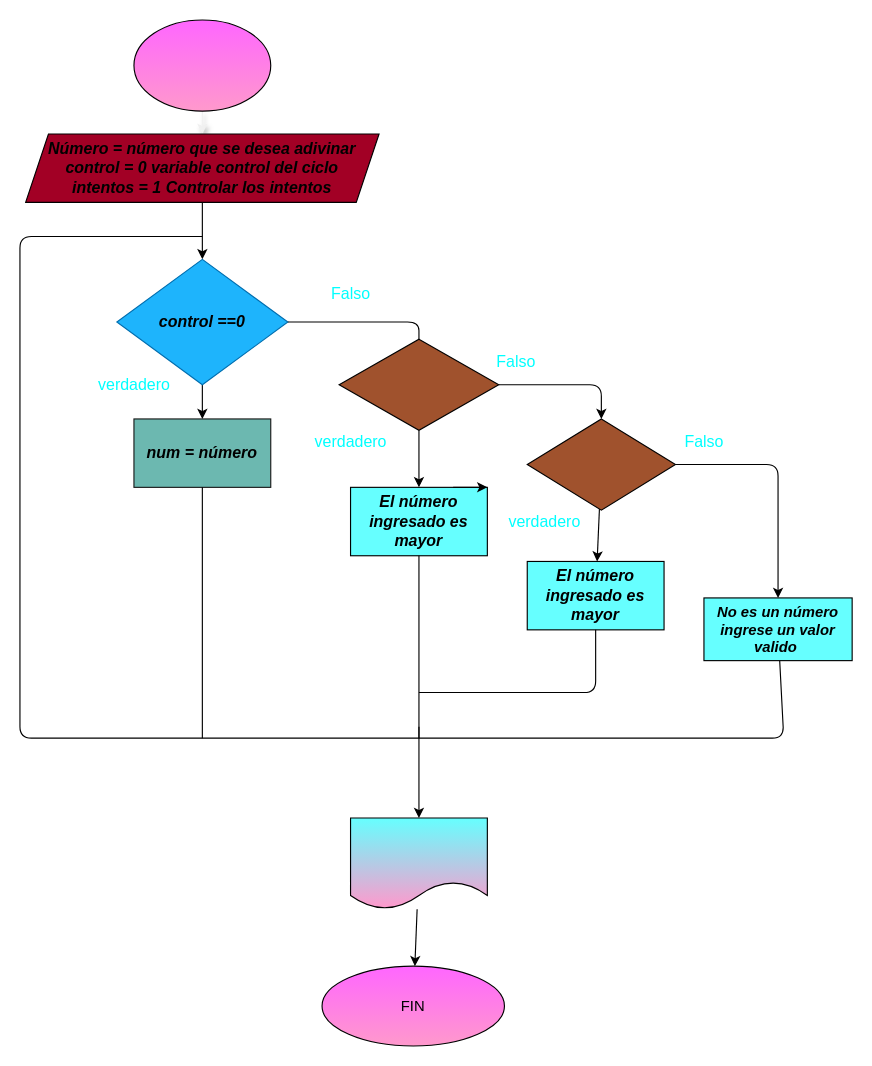
Image size: 872x1066. Some labels were removed from this diagram. Each missing label, with the centre of its shape:
"Adivinaste el número FIN DEL JUEGO" belongs at pixel 418 863.
"INICIO" belongs at pixel 202 65.
"num < número" belongs at pixel 600 464.
"num > número" belongs at pixel 418 384.
